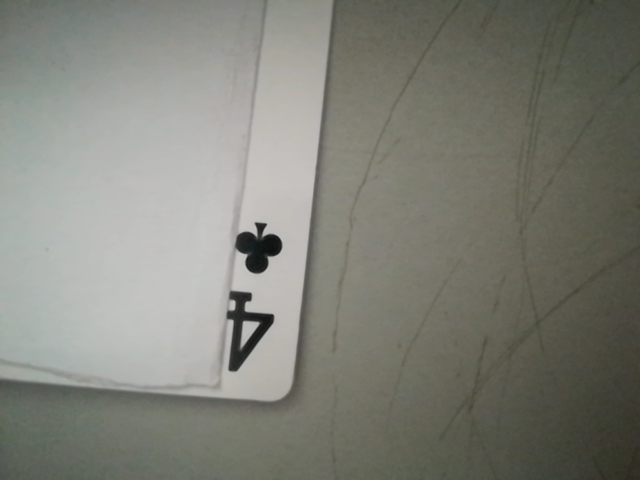mh 4: (206, 215, 299, 381)
